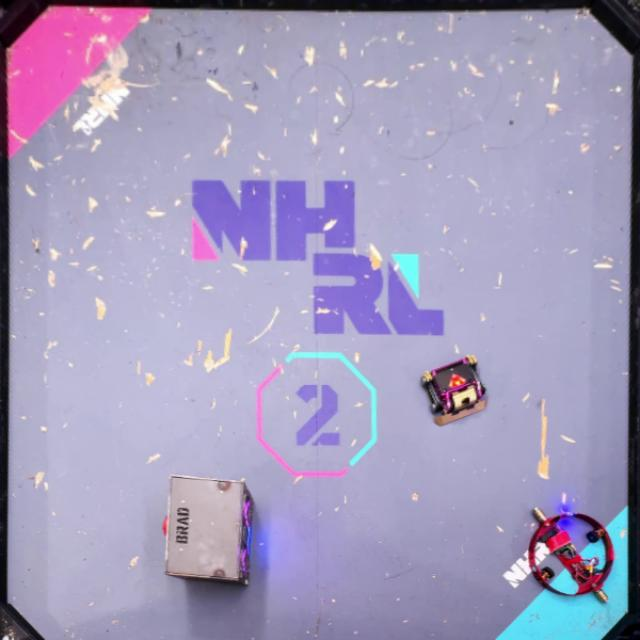housebot: (160, 474, 255, 585)
robot: (528, 507, 614, 602), (420, 354, 488, 426)
